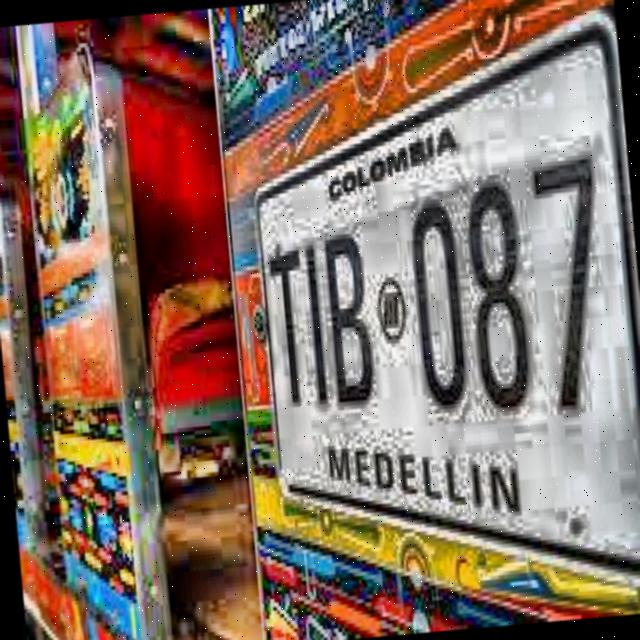plate: (255, 18, 640, 566)
